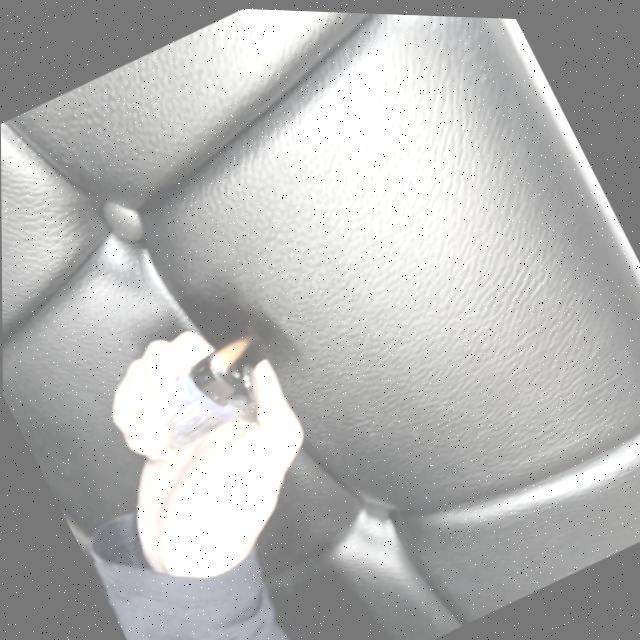Fire: (203, 330, 259, 376)
